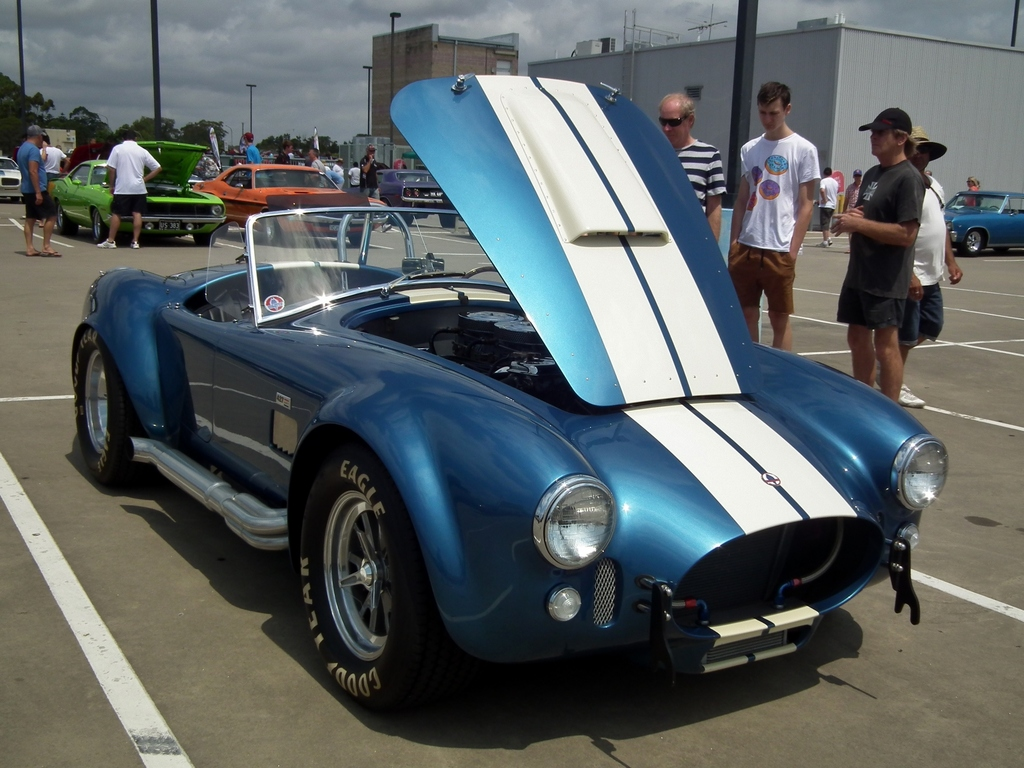Person: (96, 127, 163, 248), (20, 122, 62, 258), (37, 129, 69, 254), (358, 144, 392, 232), (840, 168, 864, 255), (818, 165, 839, 250), (243, 132, 262, 187), (307, 145, 324, 187), (963, 174, 980, 210), (324, 159, 344, 188), (274, 136, 290, 161), (347, 160, 361, 188), (330, 156, 344, 176)
